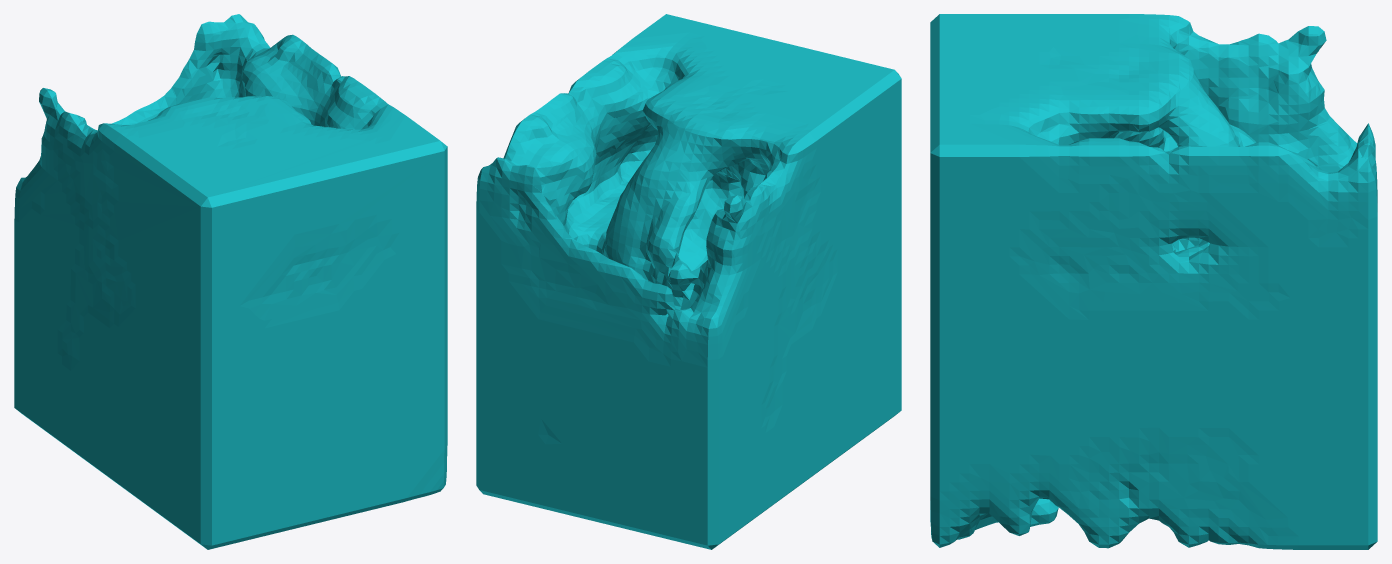
3 renders of one model, left to right at view 1: azimuth 30°, elevation 25°; view 2: azimuth 150°, elevation 25°; view 3: azimuth 270°, elevation 25°, orthographic. The views are drawn at different scales.
Parts seen in each view (by area): view 1: Liquid_Domain; view 2: Liquid_Domain; view 3: Liquid_Domain.
Part boxes in pixels (x1=…): Liquid_Domain: x1=14, y1=14, x2=447, y2=549; Liquid_Domain: x1=476, y1=14, x2=901, y2=549; Liquid_Domain: x1=930, y1=14, x2=1377, y2=549.
Size of the model in its own units: 79.09 by 108 by 108.
